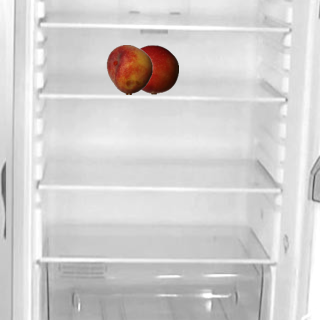Apple Braeburn: (128, 44, 178, 94)
Peach: (104, 44, 154, 94)
